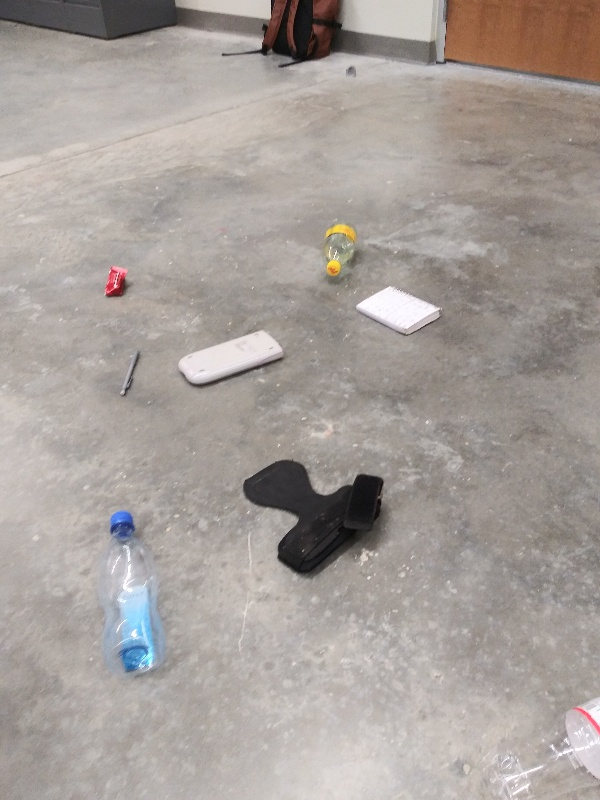bottle: (475, 687, 598, 800), (98, 509, 168, 678), (320, 216, 360, 281)
